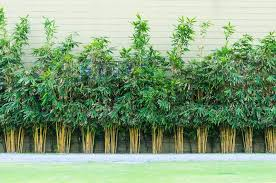bamboo: (109, 13, 276, 153), (1, 11, 102, 151)
